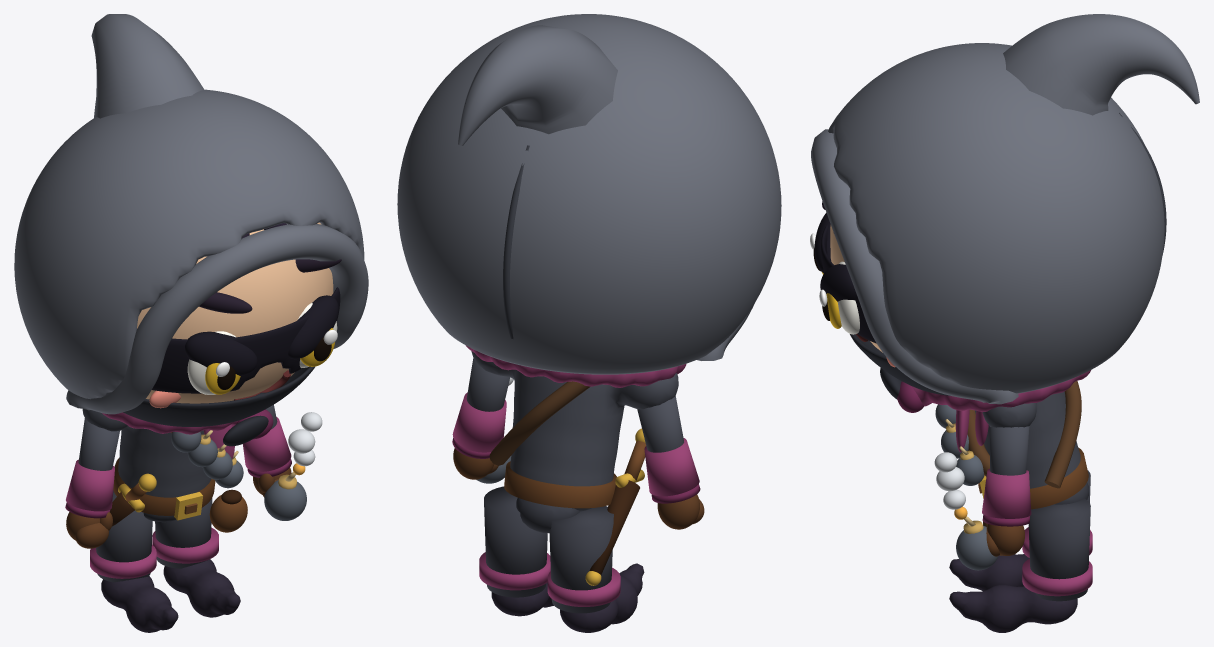
Rendered from fumigene.glb.
The picture shows the model from 3 angles, left to right: view 1: azimuth 30°, elevation 25°; view 2: azimuth 150°, elevation 25°; view 3: azimuth 270°, elevation 25°; orthographic projection. The views are drawn at different scales.
Parts seen in each view (by area): view 1: capuche, capuche_bord, crane, capuche_pointe, tunique, masque, foulard_bouche, botte, botte.001, jambe, paupiere, brassard (+19 smaller); view 2: capuche, capuche_pointe, tunique, jambe, jambe.001, ceinture, brassard, botte, foulard, bandouliere_dos, brassard.003, bras (+9 smaller); view 3: capuche, capuche_pointe, capuche_bord, jambe.001, tunique, botte.001, brassard.003, bras.001, botte, bandouliere_dos, foulard, bande.001 (+10 smaller).
Part boxes in pixels (x1=…): capuche: x1=14, y1=89, x2=364, y2=399; capuche_bord: x1=66, y1=224, x2=368, y2=414; crane: x1=137, y1=222, x2=333, y2=403; capuche_pointe: x1=91, y1=14, x2=204, y2=118; tunique: x1=82, y1=409, x2=211, y2=497; masque: x1=152, y1=287, x2=340, y2=393; foulard_bouche: x1=123, y1=366, x2=314, y2=426; botte: x1=101, y1=576, x2=178, y2=632; botte.001: x1=163, y1=559, x2=240, y2=617; jambe: x1=96, y1=490, x2=152, y2=582; paupiere: x1=185, y1=331, x2=257, y2=375; brassard: x1=66, y1=459, x2=114, y2=511; capuche: x1=397, y1=14, x2=781, y2=374; capuche_pointe: x1=458, y1=25, x2=617, y2=145; tunique: x1=471, y1=351, x2=678, y2=511; jambe: x1=549, y1=506, x2=613, y2=613; jambe.001: x1=484, y1=486, x2=547, y2=597; ceinture: x1=504, y1=461, x2=616, y2=508; brassard: x1=644, y1=438, x2=699, y2=496; botte: x1=560, y1=563, x2=644, y2=632; foulard: x1=465, y1=345, x2=686, y2=387; bandouliere_dos: x1=489, y1=381, x2=590, y2=465; brassard.003: x1=452, y1=392, x2=506, y2=452; bras: x1=637, y1=396, x2=683, y2=452; capuche: x1=828, y1=43, x2=1164, y2=393; capuche_pointe: x1=1003, y1=14, x2=1199, y2=115; capuche_bord: x1=811, y1=129, x2=1018, y2=404; jambe.001: x1=1028, y1=498, x2=1090, y2=601; tunique: x1=975, y1=391, x2=1080, y2=488; botte.001: x1=949, y1=585, x2=1077, y2=632; brassard.003: x1=982, y1=468, x2=1031, y2=518; bras.001: x1=990, y1=426, x2=1029, y2=475; botte: x1=949, y1=554, x2=1029, y2=591; bandouliere_dos: x1=1044, y1=381, x2=1081, y2=488; foulard: x1=911, y1=370, x2=1090, y2=411; bande.001: x1=1022, y1=559, x2=1092, y2=596.
Size of the model in its own units: 1.95 by 3.46 by 2.05.
